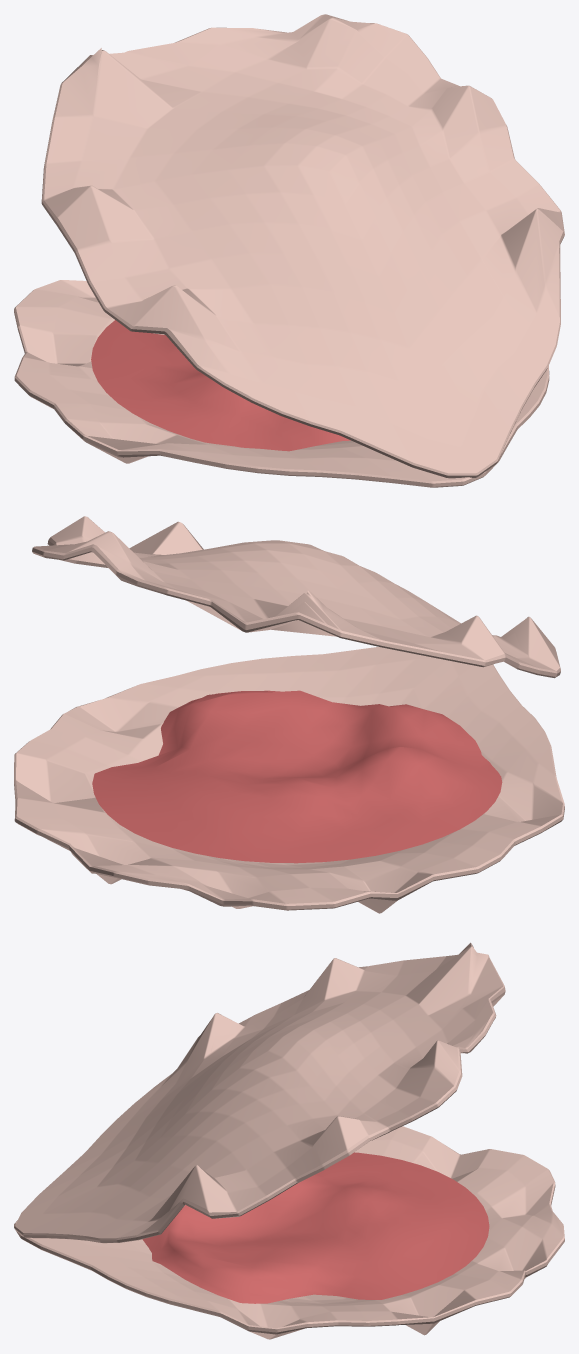
File: Open Seashell Spikey.fbx
3 views of the same model, one above another, from view 1: azimuth 30°, elevation 25°; view 2: azimuth 150°, elevation 25°; view 3: azimuth 270°, elevation 25° (orthographic). The views are drawn at different scales.
Visible parts, largest first — view 1: Open_Seashell_Spikey; view 2: Open_Seashell_Spikey; view 3: Open_Seashell_Spikey.
Boxes of the visible parts, box(x1,y1,x2,y2) form: Open_Seashell_Spikey: box(14, 14, 564, 487); Open_Seashell_Spikey: box(14, 516, 564, 913); Open_Seashell_Spikey: box(14, 942, 564, 1339).
Size of the model in its own units: 2.41 by 1.7 by 2.79.
